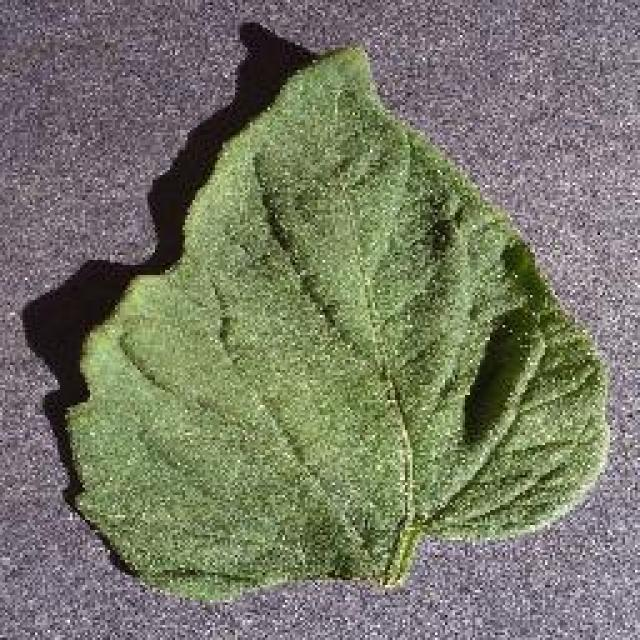Tomato healthy leaf: (74, 44, 611, 588)
